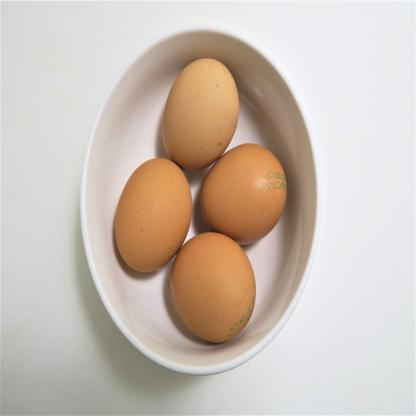egg: (196, 128, 305, 244), (148, 48, 245, 173), (110, 148, 196, 284), (168, 232, 268, 346)
